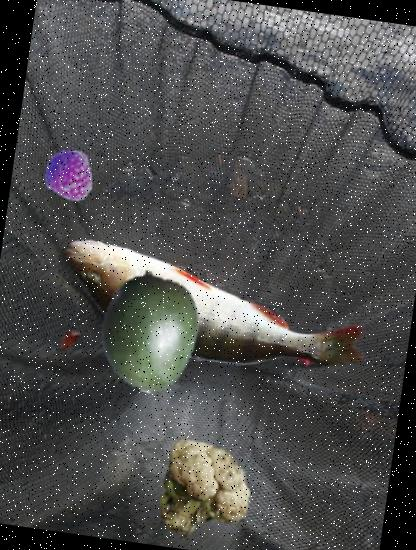Cauliflower: (145, 436, 260, 550)
Mango: (82, 264, 218, 400)
Raspberry: (40, 147, 99, 206)
